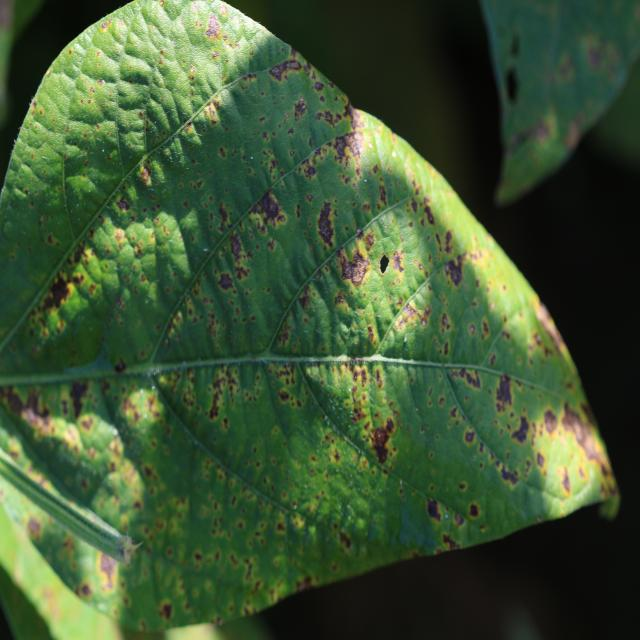Bacterial_Blight: (316, 202, 346, 263)
Soybean: (0, 0, 621, 640)
